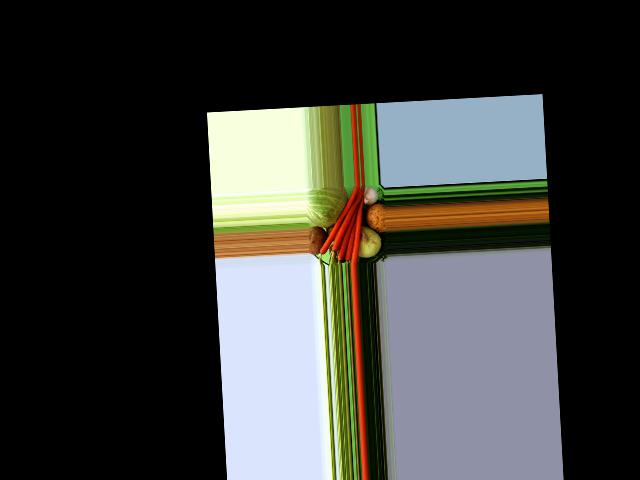carrot: (346, 188, 369, 263)
